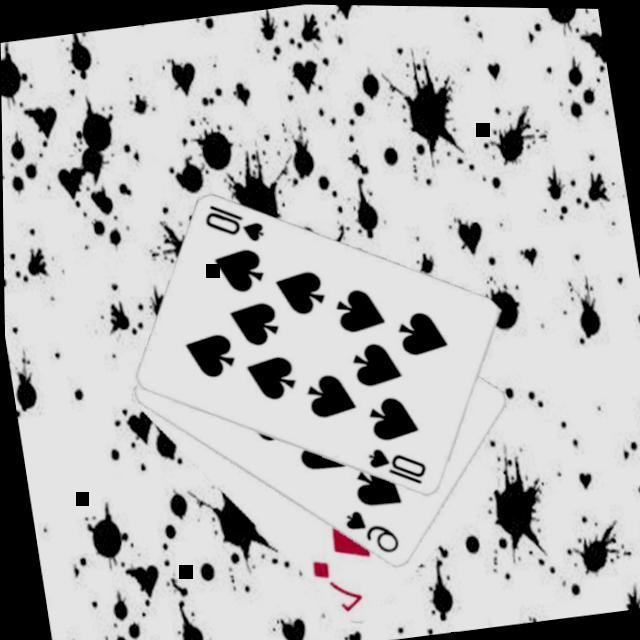10S: (198, 193, 268, 249), (362, 436, 432, 491)
7D: (305, 548, 367, 616)
9S: (338, 499, 403, 559)
